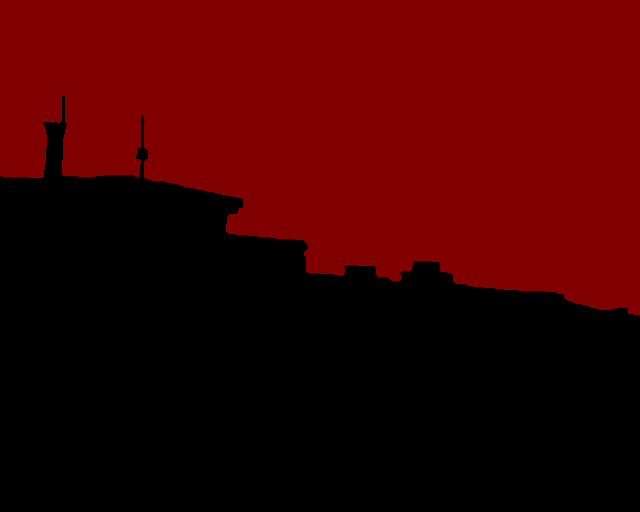Sky: (1, 1, 639, 314)
